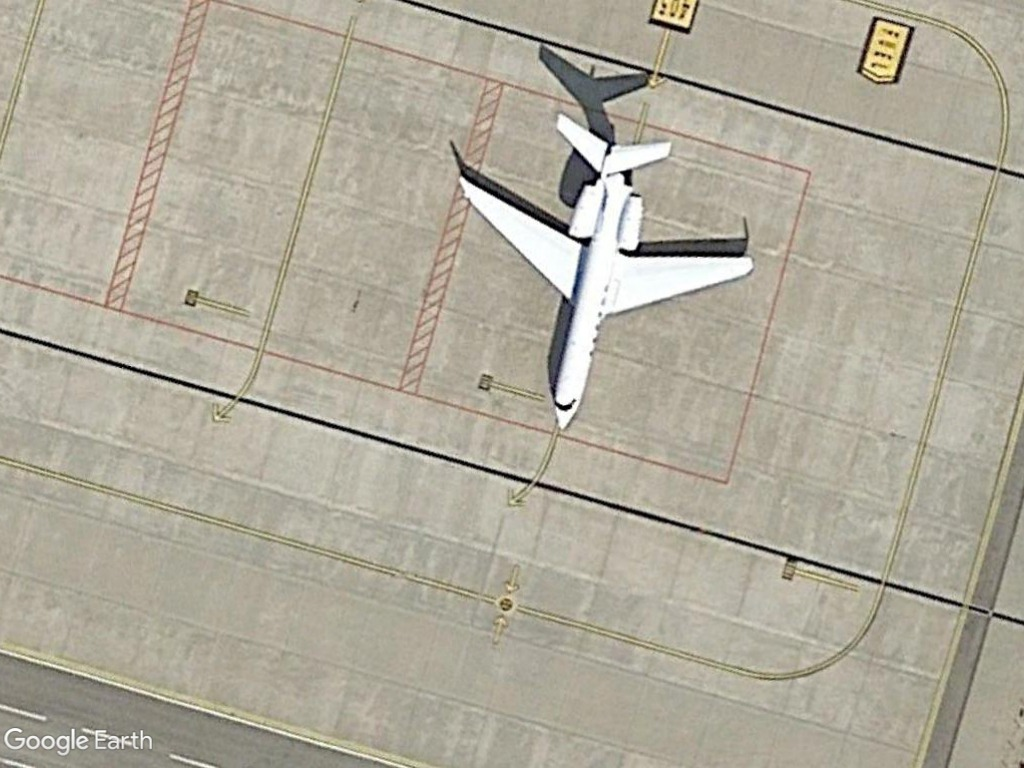chartered: (456, 102, 760, 434)
